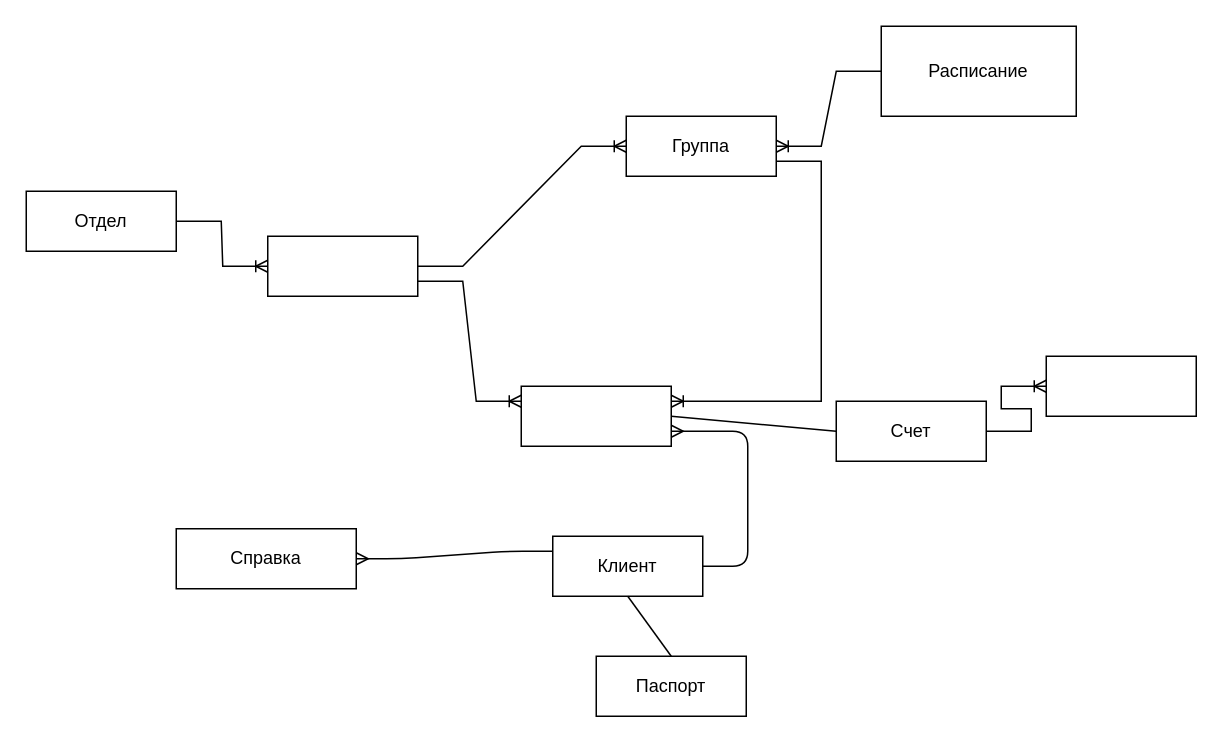
The diagram is 1223 pixels wide and 743 high, and some of its shapes have lost their labels. Each missing label, with the centre of its shape:
"Абонемент" goes at point (595, 415).
"Оплата" goes at point (1120, 385).
"Сотрудник" goes at point (342, 265).
